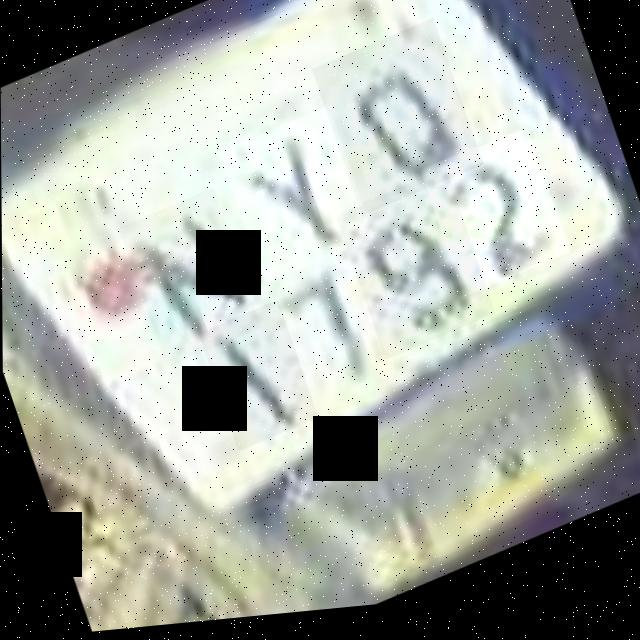1: (197, 302, 318, 459)
2: (421, 134, 570, 310)
7: (256, 247, 403, 414)
9: (336, 175, 495, 371)
N: (119, 188, 262, 375)
O: (312, 23, 484, 228)
Y: (218, 108, 374, 293)
